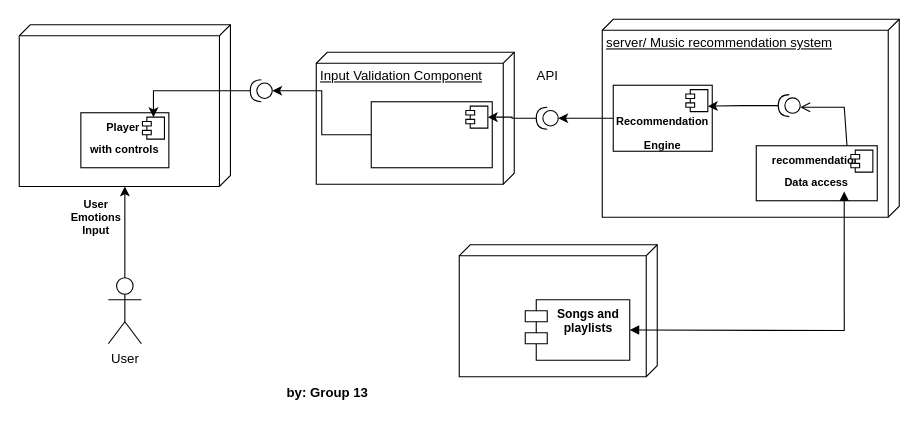
This 919x429 diagram has some shape labels left out. The shapes that lost their labels are listed below. From the top down, each one's box as (x1, y1, x2, y2) in pixels, then its label:
(18, 24, 230, 186): Music Player
(370, 101, 492, 168): Emotion detection model
(458, 244, 657, 377): Database
